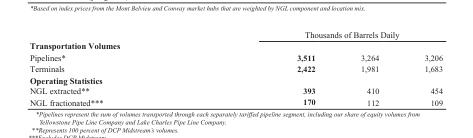table: (28, 28, 442, 106)
table column: (28, 28, 199, 106), (199, 28, 337, 106), (337, 28, 400, 106), (400, 28, 442, 106)
table column header: (28, 28, 442, 39)
table projected row header: (28, 39, 442, 51), (28, 74, 442, 85)
table row: (28, 39, 442, 51), (28, 62, 442, 74), (28, 28, 442, 39), (28, 51, 442, 62), (28, 74, 442, 85), (28, 85, 442, 96), (28, 96, 442, 106)
table spanning cell: (199, 28, 442, 39)
